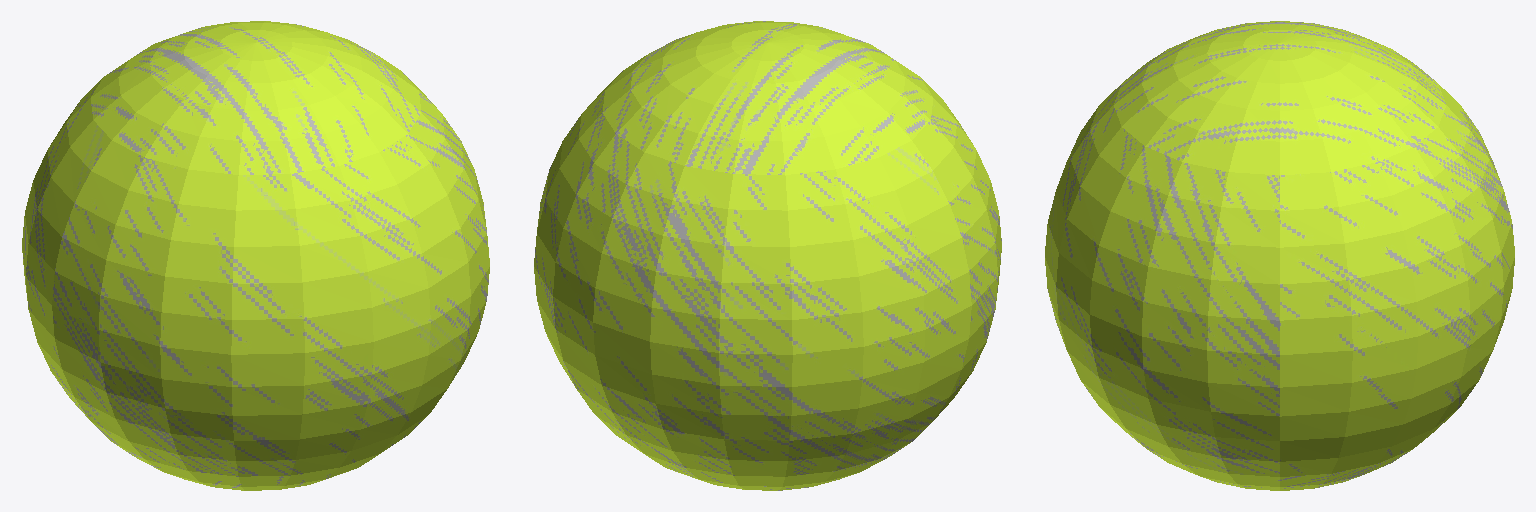
The picture shows the model from 3 angles: view 1: azimuth 30°, elevation 25°; view 2: azimuth 150°, elevation 25°; view 3: azimuth 270°, elevation 25°; orthographic projection.
Parts seen in each view (by area): view 1: defaultMaterial; view 2: defaultMaterial; view 3: defaultMaterial.
Boxes of the visible parts, x1=… form: defaultMaterial: x1=22, y1=21, x2=489, y2=490; defaultMaterial: x1=534, y1=21, x2=1001, y2=490; defaultMaterial: x1=1045, y1=21, x2=1514, y2=490.
Bounding box in the file's own units: 1.72 × 1.72 × 1.72.
Materials: 1 (1 with a texture image).